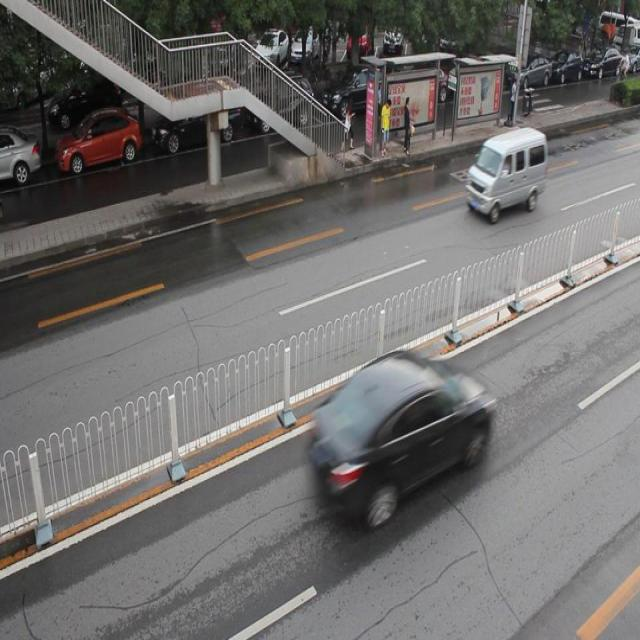car: (309, 352, 494, 530), (56, 108, 142, 174), (152, 99, 241, 150), (247, 76, 316, 131), (322, 66, 391, 118), (0, 127, 42, 185)
truck: (465, 127, 548, 219)
